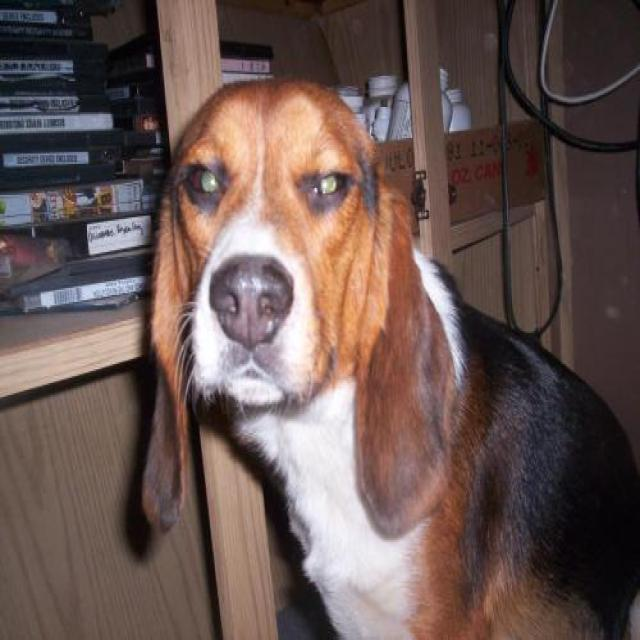Dogs: (138, 74, 639, 638)
